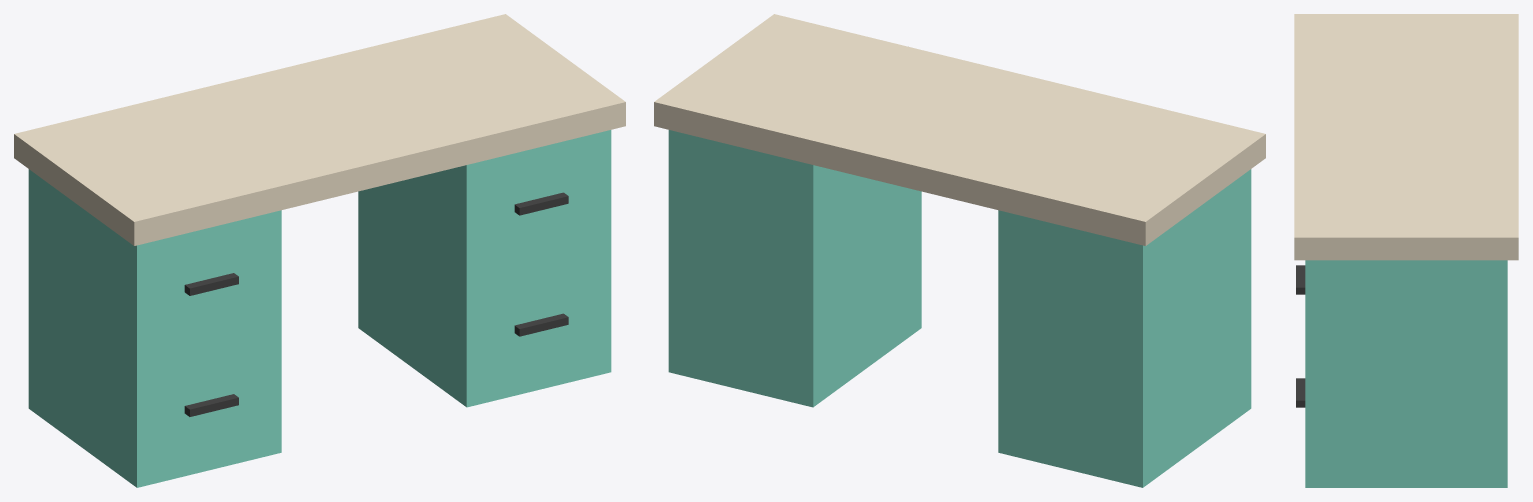
The picture shows the model from 3 angles, left to right: view 1: azimuth 30°, elevation 25°; view 2: azimuth 150°, elevation 25°; view 3: azimuth 270°, elevation 25°; orthographic projection. The views are drawn at different scales.
Visible parts, largest first — view 1: Worktop, Storage module, Storage module.001, Handle.003, Handle, Handle.001, Handle.002; view 2: Worktop, Storage module, Storage module.001; view 3: Worktop, Storage module.001, Handle.002, Handle.003.
Boxes of the visible parts, x1,y1,x2,y2 form: Worktop: (14,14,625,245); Storage module: (28,169,281,487); Storage module.001: (358,130,611,407); Handle.003: (514,192,568,215); Handle: (184,394,238,416); Handle.001: (184,273,238,295); Handle.002: (514,313,568,336); Worktop: (654,14,1265,245); Storage module: (998,169,1251,487); Storage module.001: (668,130,921,407); Worktop: (1294,14,1518,260); Storage module.001: (1305,260,1507,487); Handle.002: (1296,378,1305,407); Handle.003: (1296,265,1305,294).
Bounding box in the file's own units: 1.7 × 0.9 × 0.72.
1 material, 1 textured.
